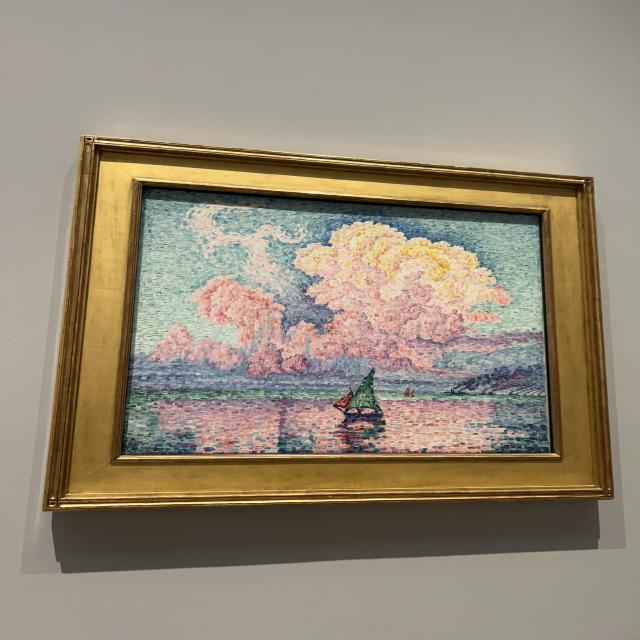sunrise: (129, 201, 546, 451)
